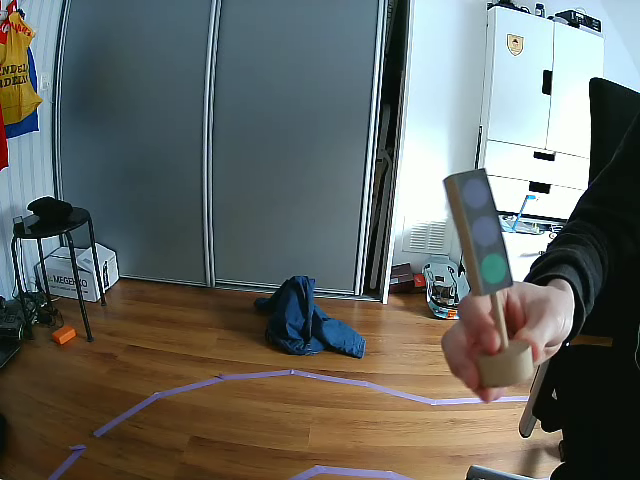groenlicht: (449, 167, 513, 294)
